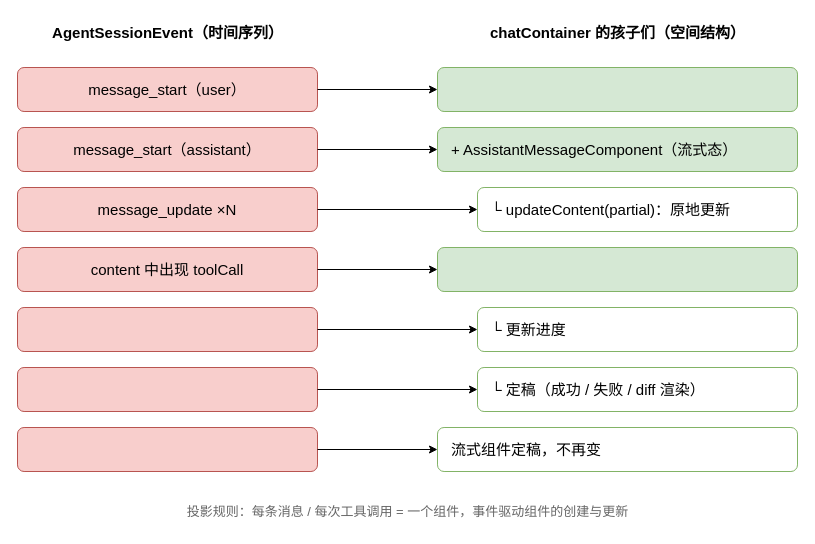
This 815x544 diagram has some shape labels left out. Here are the shapes that lost their labels. From the top down, the centre of each, then its label:
At (617,89): "+ UserMessageComponent".
At (617,269): "+ ToolExecutionComponent（pending）".
At (167,329): "tool_execution_update".
At (167,389): "tool_execution_end".
At (167,449): "message_end".
